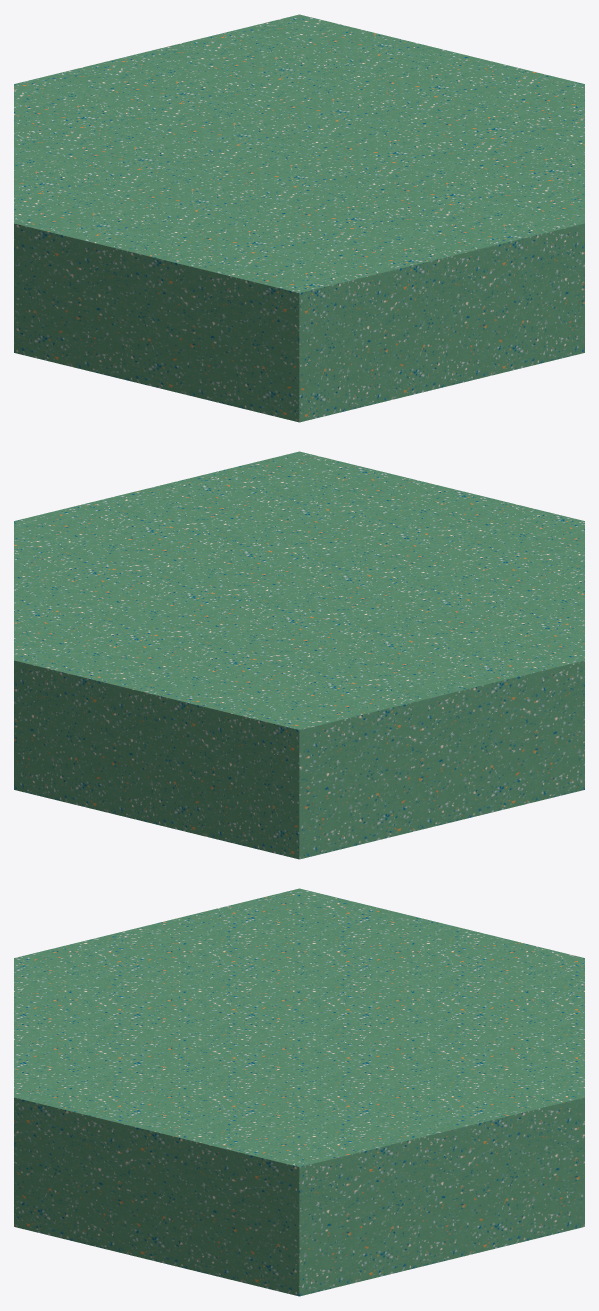
The model's file is starting_hex_tile.glb.
3 views of the same model, one above another, from view 1: azimuth 30°, elevation 25°; view 2: azimuth 150°, elevation 25°; view 3: azimuth 270°, elevation 25° (orthographic).
Parts seen in each view (by area): view 1: starting_hex; view 2: starting_hex; view 3: starting_hex.
Boxes of the visible parts, left/top/right/bottom form: starting_hex: left=14, top=14, right=584, bottom=422; starting_hex: left=14, top=451, right=584, bottom=859; starting_hex: left=14, top=888, right=584, bottom=1296.
Size of the model in its own units: 1.15 by 0.25 by 1.
Materials: 1 (1 with a texture image).
